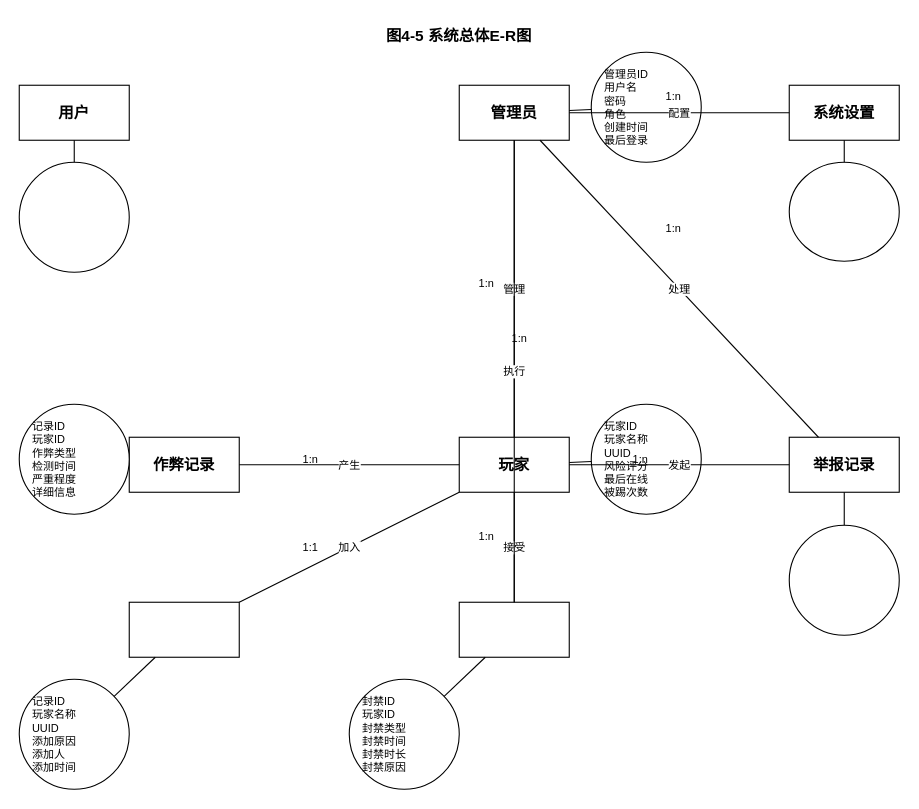
Image size: 919x809. Some labels were removed from this diagram. Each missing label, with the centre of its shape:
"举报ID 举报人 被举报人 举报原因 处理状态 处理结果" goes at [843,579].
"封禁记录" goes at [513,629].
"用户ID 用户名 密码 邮箱 角色 创建时间" goes at [73,216].
"白名单" goes at [183,629].
"设置ID 设置键 设置值 描述 更新时间" goes at [843,211].
